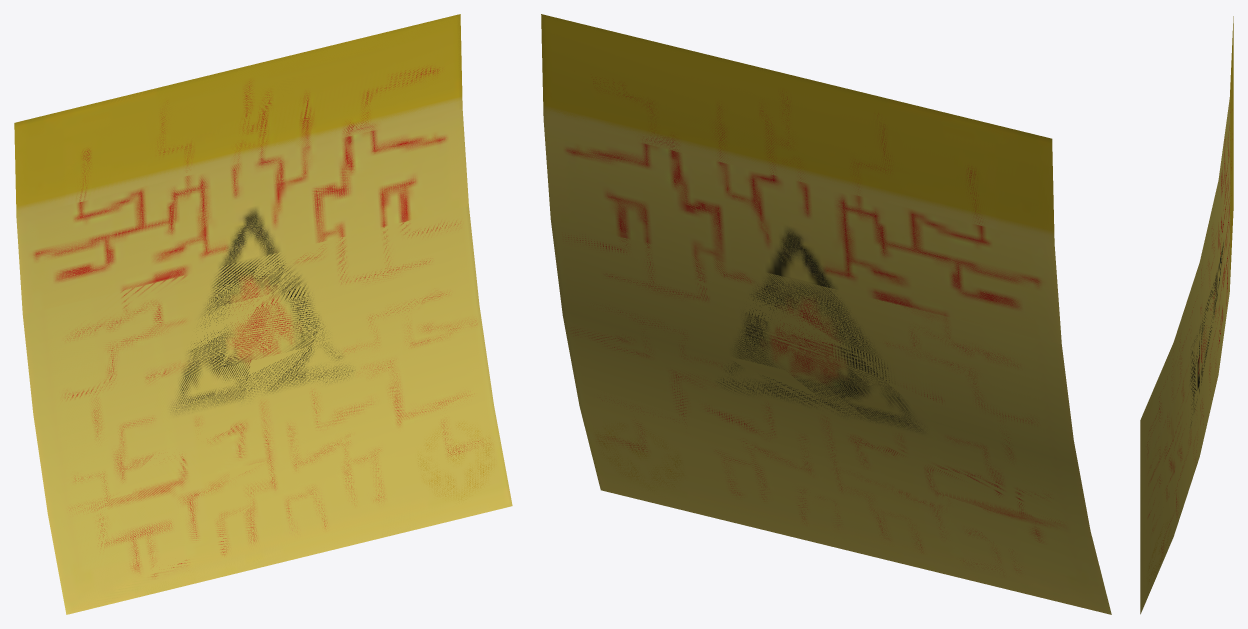
Rendered from notes_herber_postit_3.dae.
3 renders of one model, left to right at view 1: azimuth 30°, elevation 25°; view 2: azimuth 150°, elevation 25°; view 3: azimuth 270°, elevation 25°, orthographic. The views are drawn at different scales.
Visible parts, largest first — view 1: postit_3; view 2: postit_3; view 3: postit_3.
Part boxes in pixels (<box>): postit_3: <box>14,14,512,614</box>; postit_3: <box>541,14,1111,614</box>; postit_3: <box>1140,16,1233,614</box>.
Bounding box in the file's own units: 0.0875 × 0.0851 × 0.0177.
